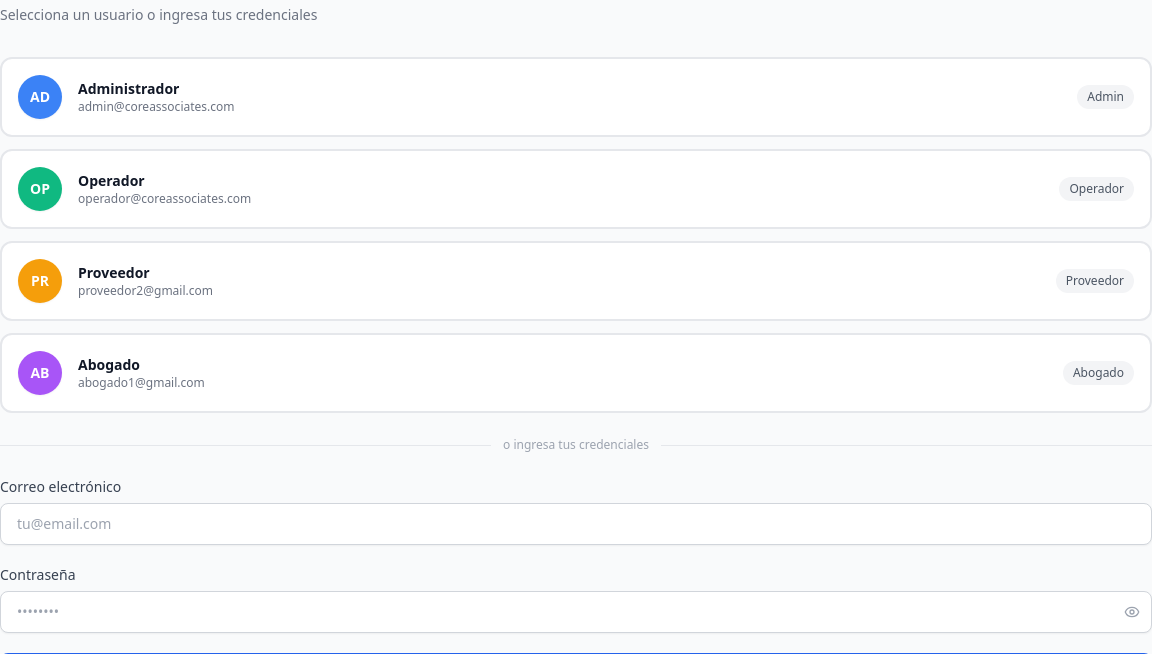
Test: LoginPage › should display server error on failed login
This screenshot has width=1152, height=654.
In the field labelled "Correo electrónico": (576, 524) [0,503,1151,545], type "admin@core.mx"
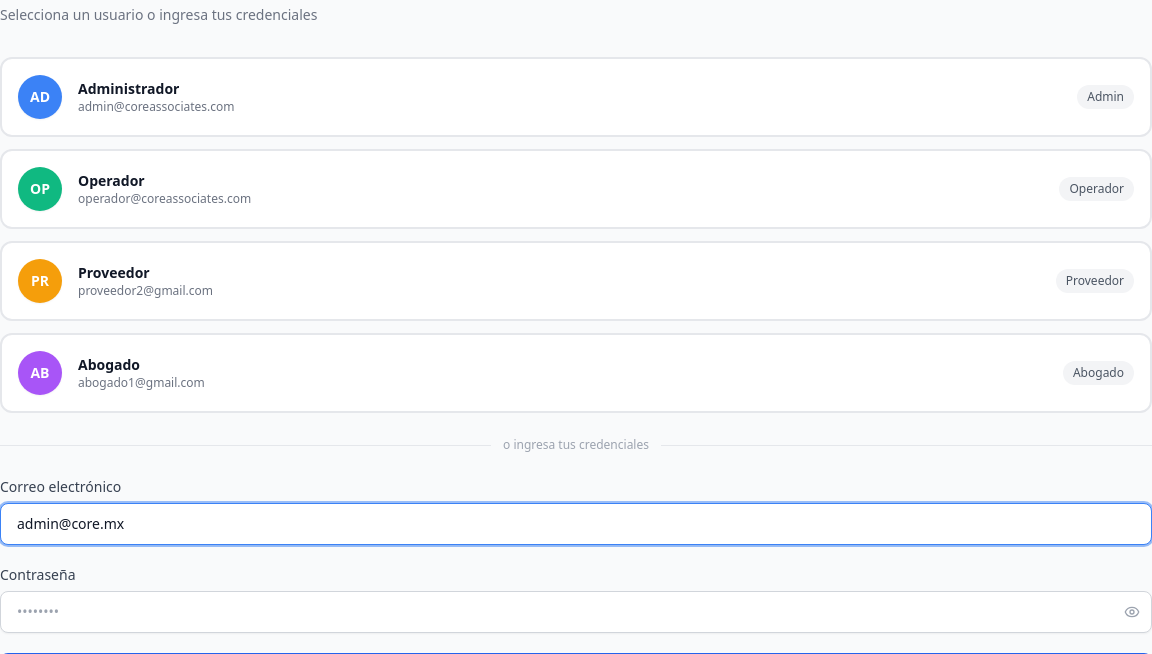
In the password field labelled "Contraseña": (576, 612) [0,591,1151,633], type "password1234"
(page scrolled)
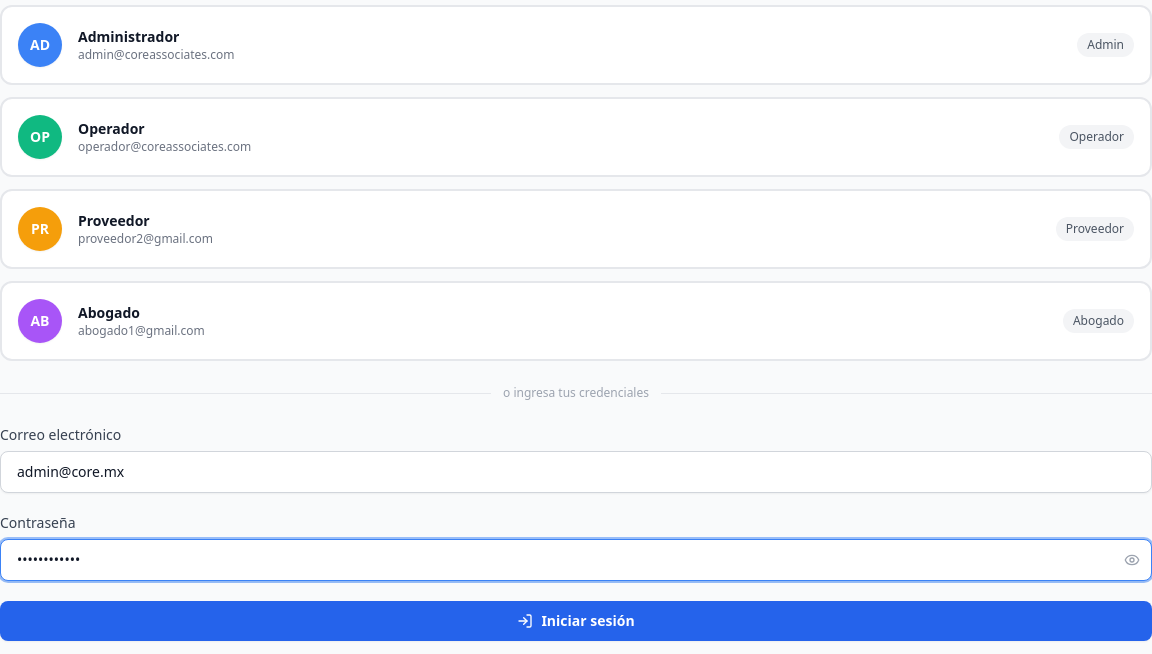
Click the button "Iniciar sesión": (576, 621) [0,601,1151,641]
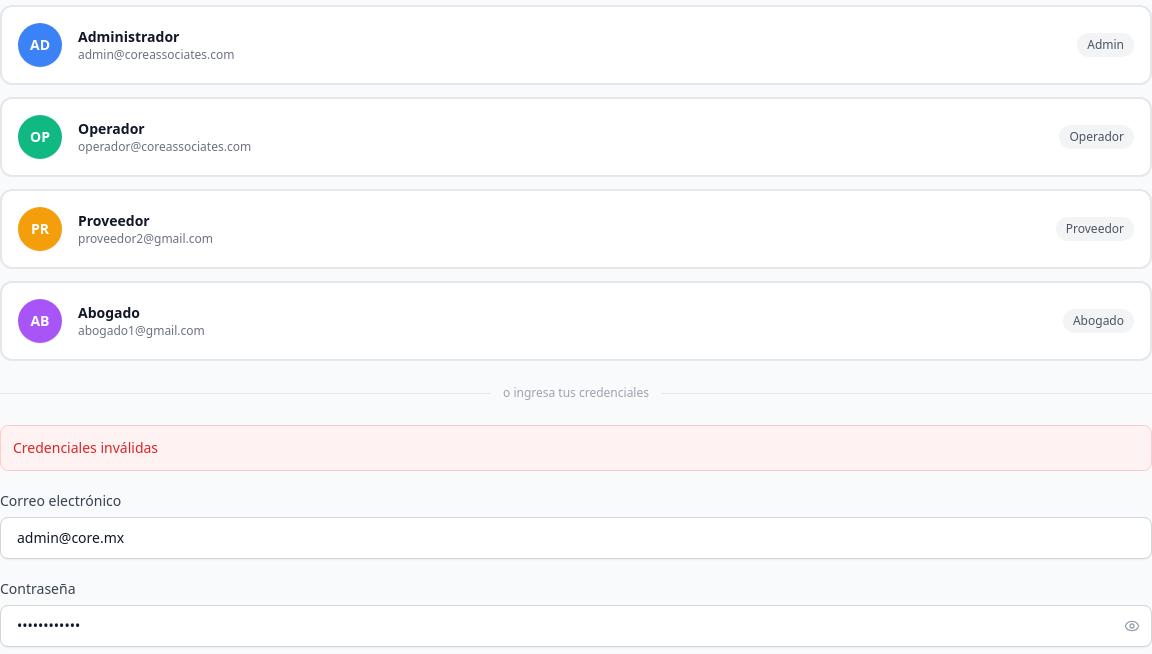
Check: the text "Credenciales inválidas" is shown, box [0,425,1151,471]
